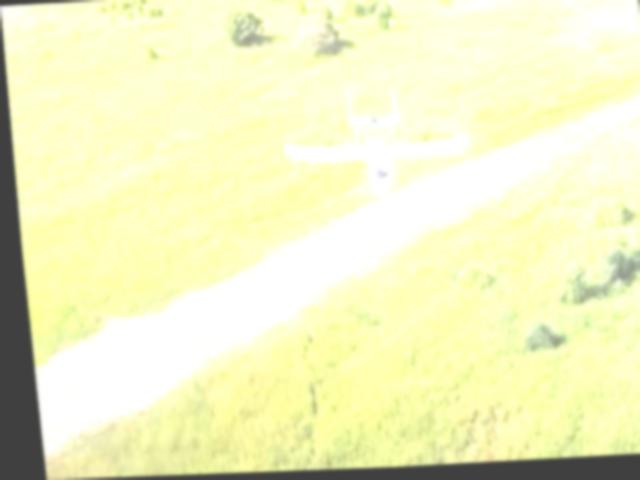iha: (278, 89, 469, 197)
